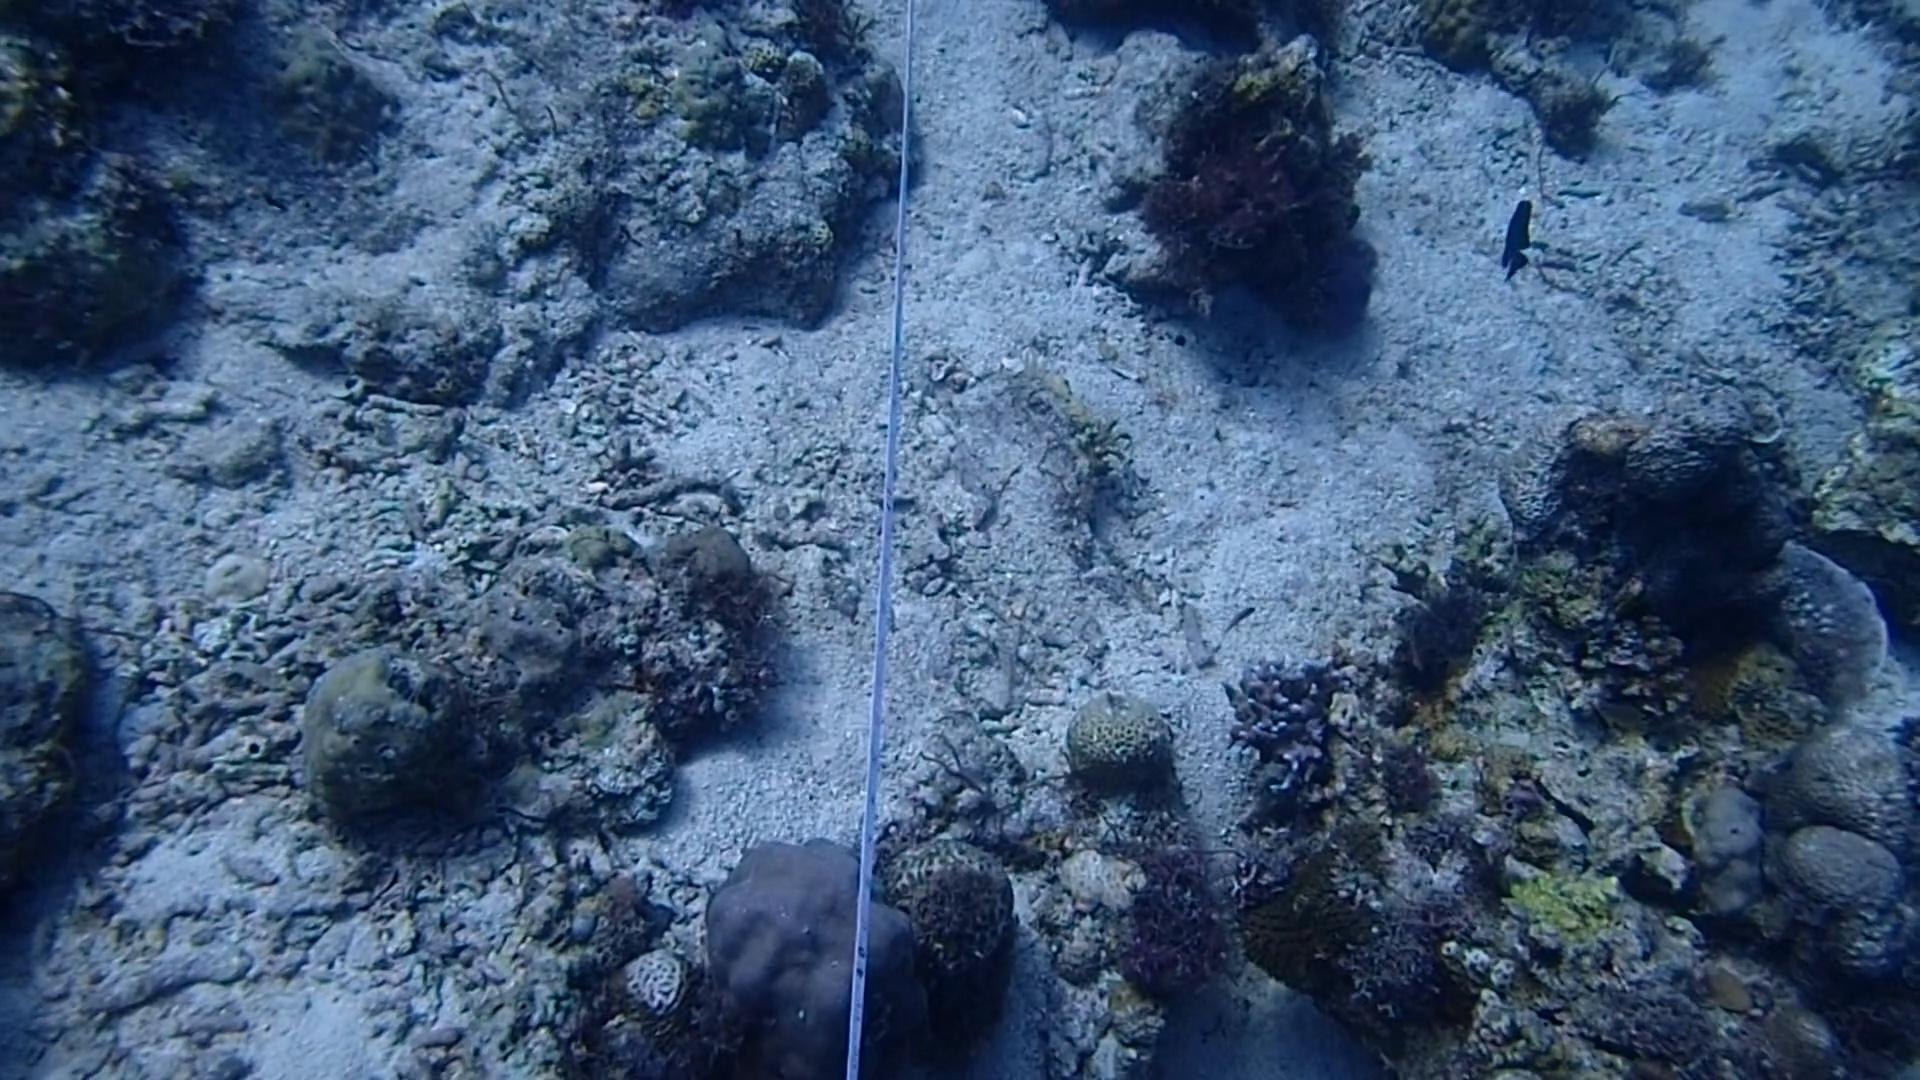Dark Fish: (1485, 187, 1553, 290)
